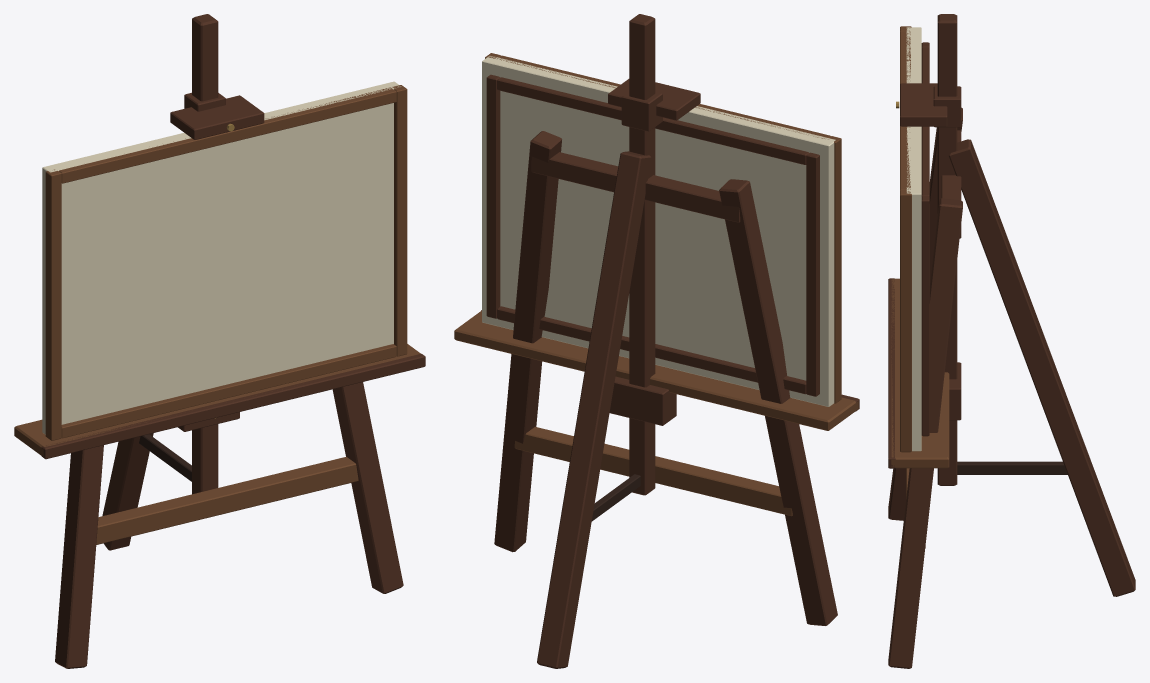
Rendered from canvas.fbx.
The picture shows the model from 3 angles, left to right: view 1: azimuth 30°, elevation 25°; view 2: azimuth 150°, elevation 25°; view 3: azimuth 270°, elevation 25°; orthographic projection. The views are drawn at different scales.
Parts seen in each view (by area): view 1: Canvas_body_001, Lower_crossbar_001, Left_splayed_leg_001, Right_splayed_leg_001, Shelf_front_edge_001, Frame_top_001, Frame_bottom_001, Frame_left_001, Center_mast_001, Frame_right_001, Rear_support_001, Top_clamp_001 (+2 smaller); view 2: Canvas_body_001, Rear_support_001, Left_splayed_leg_001, Right_splayed_leg_001, Center_mast_001, Canvas_shelf_001, Lower_crossbar_001, Upper_crossbar_001, Rear_frame_top_001, Rear_frame_right_001, Rear_frame_left_001, Rear_frame_bottom_001 (+6 smaller); view 3: Rear_support_001, Right_splayed_leg_001, Canvas_body_001, Center_mast_001, Canvas_shelf_001, Frame_right_001, Rear_frame_right_001, Left_splayed_leg_001, Top_clamp_001, Rear_spreader_001, Shelf_front_edge_001, Frame_top_001 (+4 smaller).
Part boxes in pixels (x1=…): Canvas_body_001: x1=42, y1=81, x2=401, y2=434; Lower_crossbar_001: x1=96, y1=456, x2=358, y2=544; Left_splayed_leg_001: x1=55, y1=445, x2=103, y2=668; Right_splayed_leg_001: x1=332, y1=382, x2=403, y2=593; Shelf_front_edge_001: x1=41, y1=353, x2=425, y2=459; Frame_top_001: x1=59, y1=87, x2=396, y2=183; Frame_bottom_001: x1=61, y1=344, x2=396, y2=438; Frame_left_001: x1=45, y1=169, x2=61, y2=440; Center_mast_001: x1=192, y1=14, x2=218, y2=494; Frame_right_001: x1=392, y1=85, x2=407, y2=356; Rear_support_001: x1=102, y1=433, x2=153, y2=550; Top_clamp_001: x1=170, y1=95, x2=264, y2=139; Canvas_body_001: x1=482, y1=56, x2=835, y2=406; Rear_support_001: x1=537, y1=151, x2=651, y2=668; Left_splayed_leg_001: x1=719, y1=179, x2=837, y2=625; Right_splayed_leg_001: x1=494, y1=131, x2=561, y2=552; Center_mast_001: x1=629, y1=14, x2=655, y2=495; Canvas_shelf_001: x1=454, y1=310, x2=858, y2=430; Lower_crossbar_001: x1=514, y1=426, x2=792, y2=516; Upper_crossbar_001: x1=531, y1=152, x2=740, y2=222; Rear_frame_top_001: x1=497, y1=77, x2=809, y2=164; Rear_frame_right_001: x1=486, y1=74, x2=500, y2=318; Rear_frame_left_001: x1=806, y1=152, x2=819, y2=396; Rear_frame_bottom_001: x1=497, y1=306, x2=806, y2=394; Rear_support_001: x1=948, y1=139, x2=1135, y2=596; Right_splayed_leg_001: x1=888, y1=198, x2=962, y2=668; Canvas_body_001: x1=906, y1=27, x2=921, y2=451; Center_mast_001: x1=937, y1=14, x2=957, y2=485; Canvas_shelf_001: x1=891, y1=278, x2=949, y2=468; Frame_right_001: x1=900, y1=190, x2=911, y2=452; Rear_frame_right_001: x1=921, y1=196, x2=929, y2=436; Left_splayed_leg_001: x1=888, y1=107, x2=962, y2=520; Top_clamp_001: x1=900, y1=83, x2=947, y2=126; Rear_spreader_001: x1=957, y1=461, x2=1067, y2=474; Shelf_front_edge_001: x1=888, y1=278, x2=895, y2=468; Frame_top_001: x1=900, y1=31, x2=910, y2=190.
Size of the model in its own units: 42.52 by 63.31 by 24.68.
